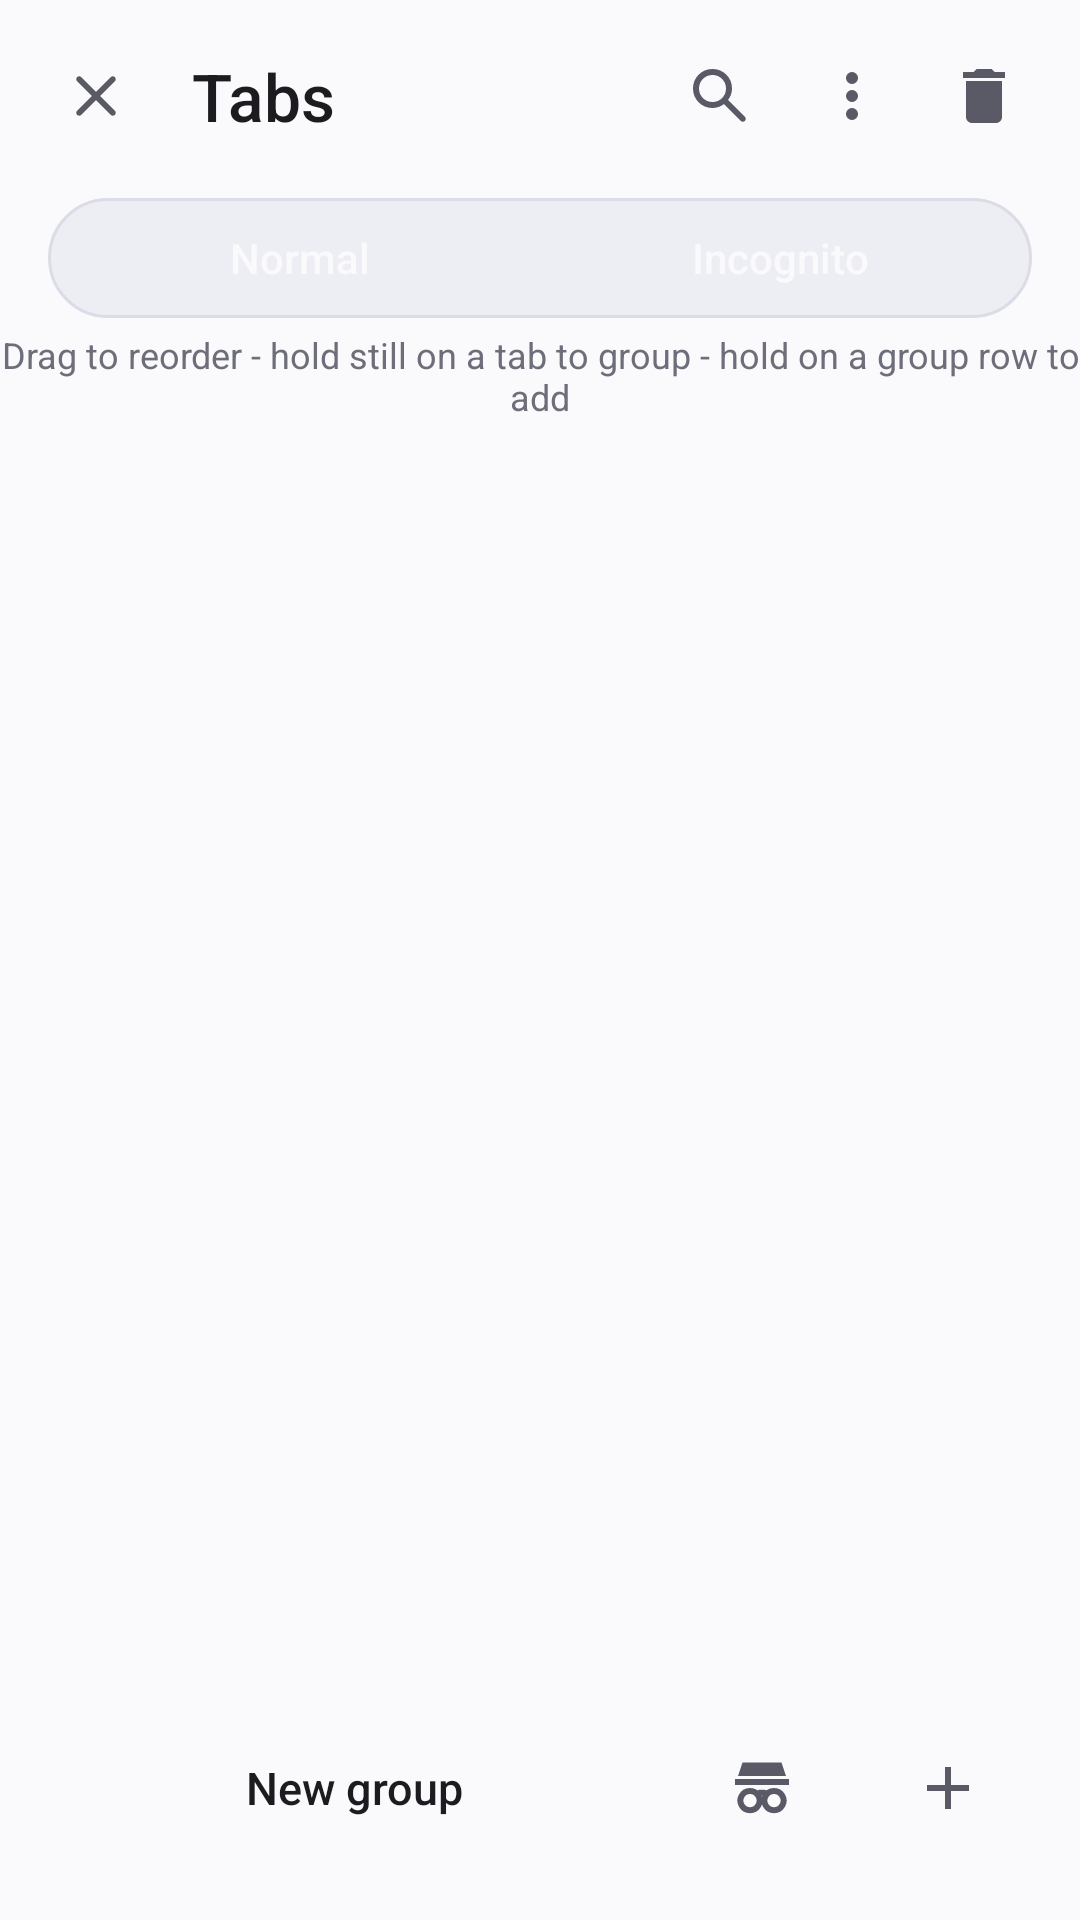

Where icons sit on this 1080px×1920px app screen, as (x1, y1, x2, y2):
Close: (76, 76, 116, 116)
More options: (846, 72, 858, 120)
New incognito tab: (735, 1762, 789, 1814)
New tab: (927, 1767, 969, 1809)
Search: (693, 69, 746, 122)
